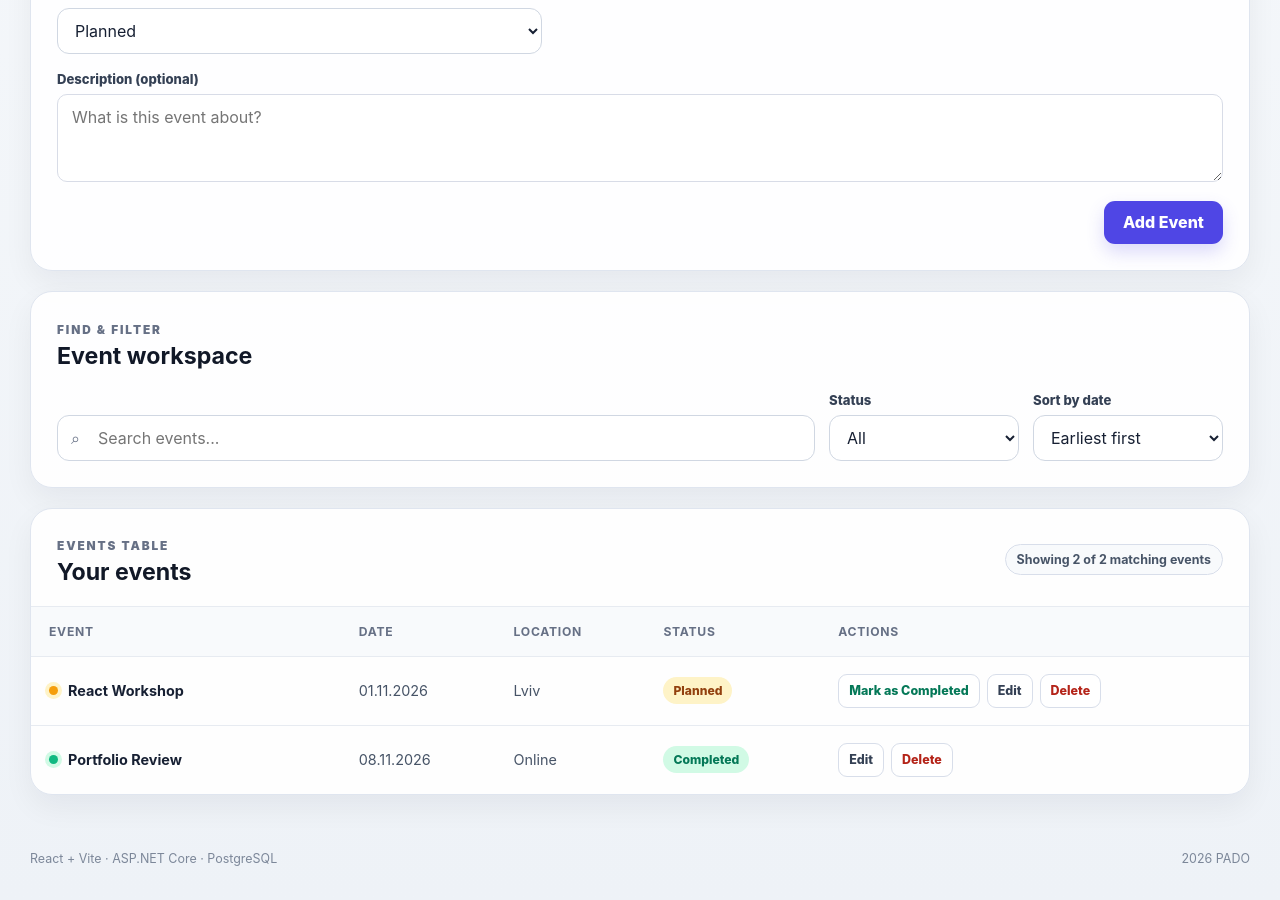
Test: marks a planned event as completed via PATCH
(page scrolled)
Check: the text "React Workshop" is shown, box [68, 682, 184, 699]
Click the button "Mark as Completed" at {"x": 909, "y": 691}, box [838, 674, 980, 708]
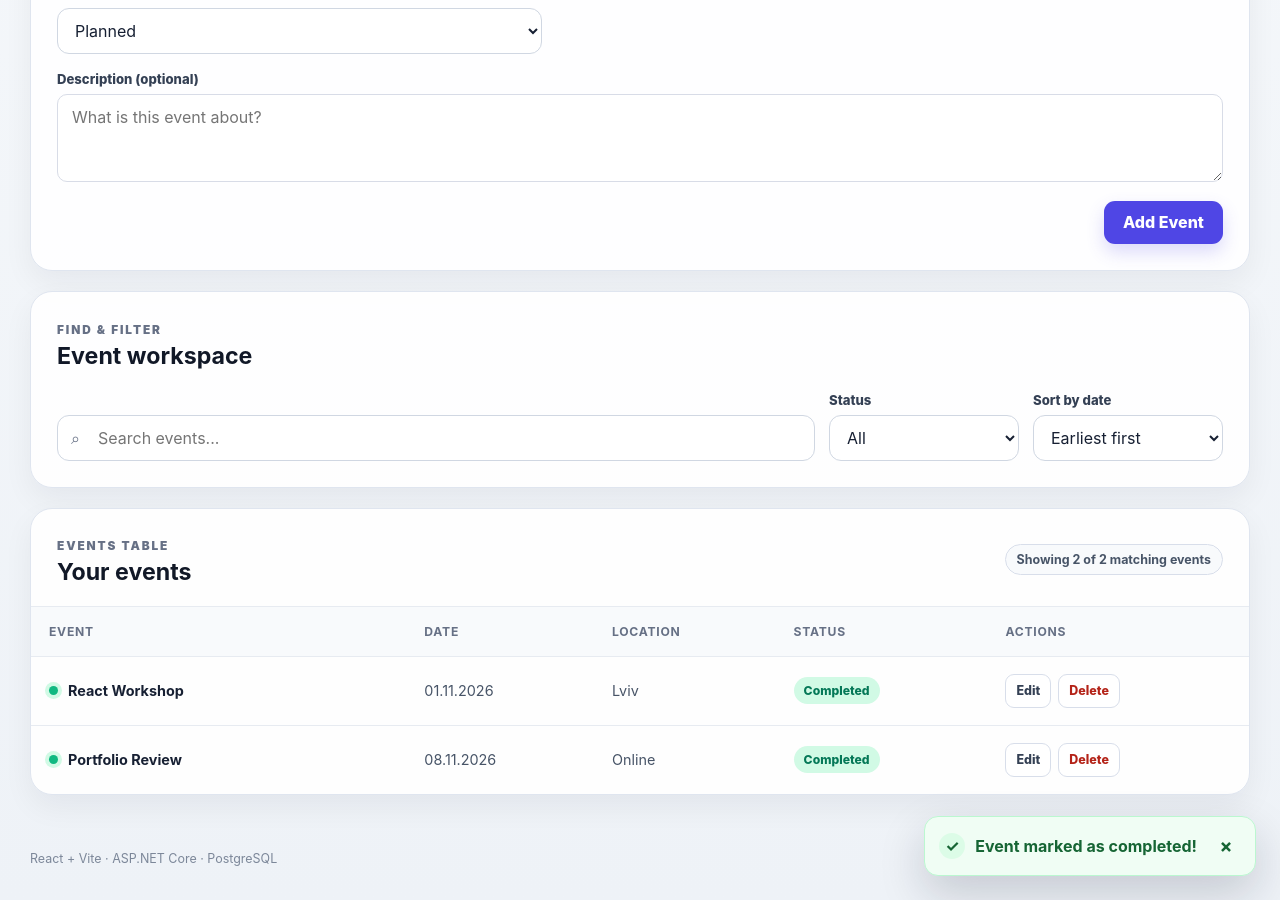
Check: the text "Completed" in the row of "React Workshop" is shown, box [804, 683, 870, 698]
